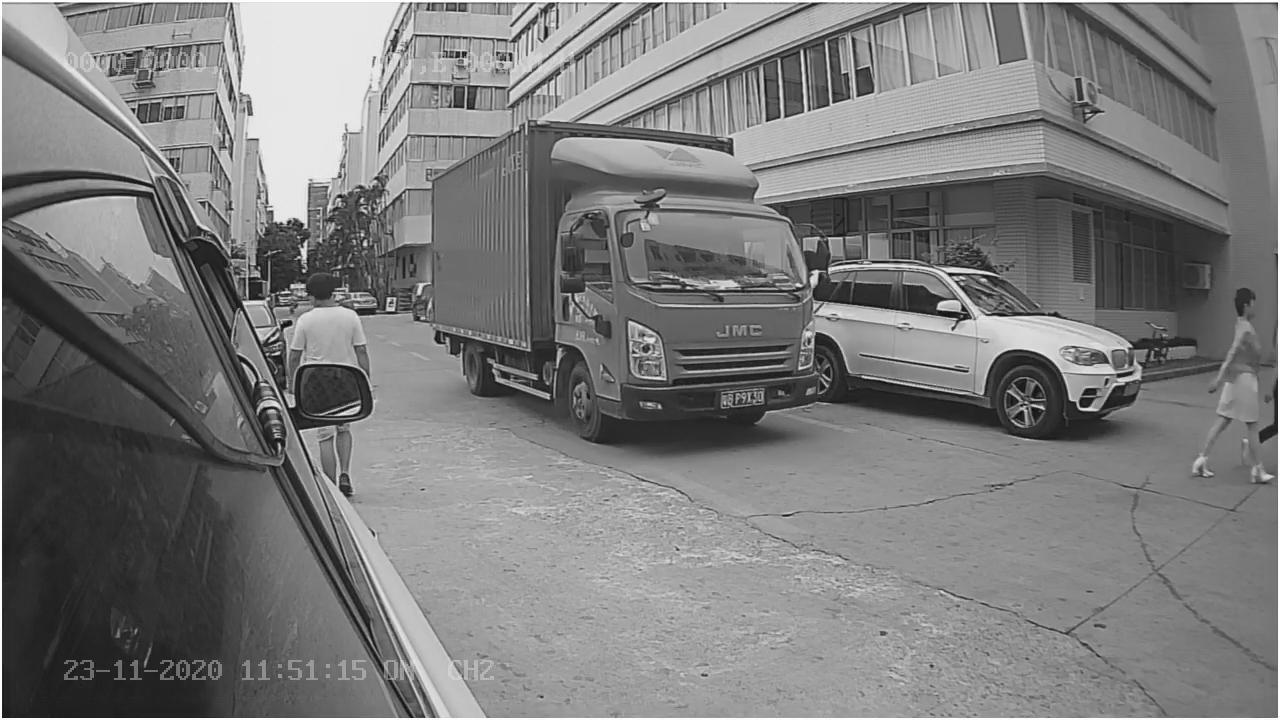person: (1178, 279, 1273, 484)
